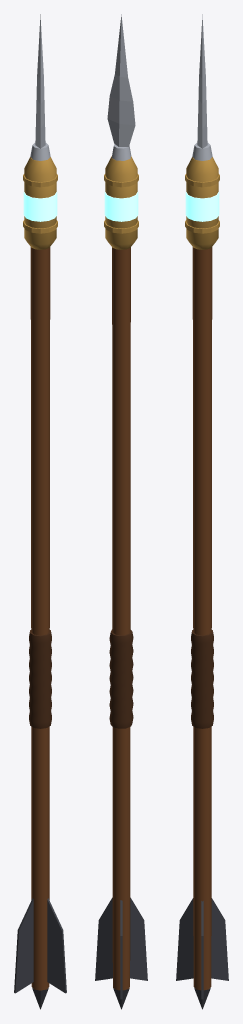
The model's file is javelin.glb.
The picture shows the model from 3 angles, left to right: view 1: azimuth 90°, elevation 25°; view 2: azimuth 150°, elevation 25°; view 3: azimuth 270°, elevation 25°; orthographic projection.
Visible parts, largest first — view 1: Javelin_Shaft, Javelin_Fins, Javelin_Grip, Javelin_Charge, Javelin_Head, Javelin_Glow; view 2: Javelin_Shaft, Javelin_Fins, Javelin_Head, Javelin_Grip, Javelin_Charge, Javelin_Glow; view 3: Javelin_Shaft, Javelin_Fins, Javelin_Grip, Javelin_Charge, Javelin_Head, Javelin_Glow.
Boxes of the visible parts, x1,y1,x2,y2 form: Javelin_Shaft: (30,247,50,990); Javelin_Fins: (14,898,66,1009); Javelin_Grip: (29,630,51,728); Javelin_Charge: (23,157,57,249); Javelin_Head: (30,14,50,160); Javelin_Glow: (23,191,57,221); Javelin_Shaft: (112,247,130,990); Javelin_Fins: (95,897,147,1009); Javelin_Head: (107,14,135,160); Javelin_Grip: (109,629,133,728); Javelin_Charge: (104,156,138,249); Javelin_Glow: (104,191,138,221); Javelin_Shaft: (192,247,212,990); Javelin_Fins: (176,898,228,1009); Javelin_Grip: (191,630,213,728); Javelin_Charge: (185,157,219,249); Javelin_Head: (192,14,212,160); Javelin_Glow: (185,191,219,221).
Size of the model in its own units: 0.0555 by 1.29 by 0.0621.
